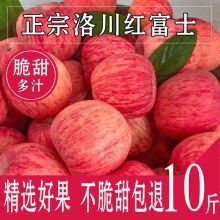apple: (50, 102, 134, 179), (153, 67, 220, 139), (90, 53, 156, 118), (17, 3, 79, 62), (136, 22, 199, 72), (80, 36, 139, 87), (1, 143, 69, 176), (121, 114, 155, 156)
